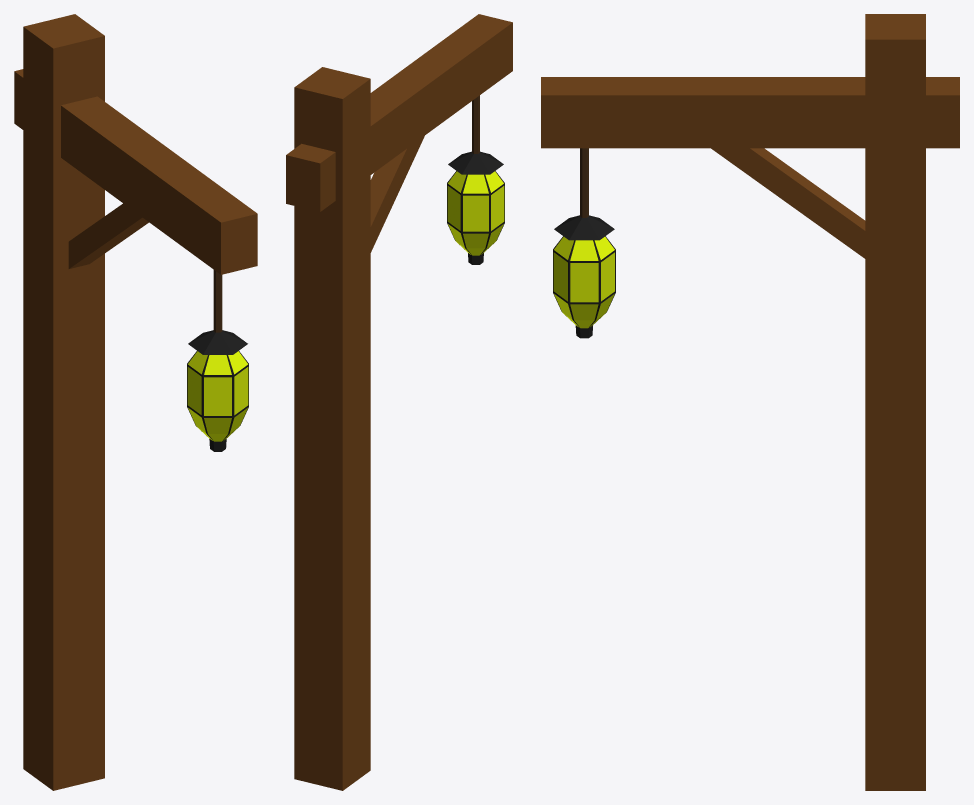
Rendered from Lighting_PillarUV.fbx.
3 renders of one model, left to right at view 1: azimuth 30°, elevation 25°; view 2: azimuth 150°, elevation 25°; view 3: azimuth 270°, elevation 25°, orthographic. The views are drawn at different scales.
Visible parts, largest first — view 1: Cube; view 2: Cube; view 3: Cube.
Boxes of the visible parts, x1,y1,x2,y2 form: Cube: [14, 14, 257, 790]; Cube: [286, 14, 512, 790]; Cube: [541, 14, 959, 790].
Bounding box in the file's own units: 25.51 × 349 × 176.
